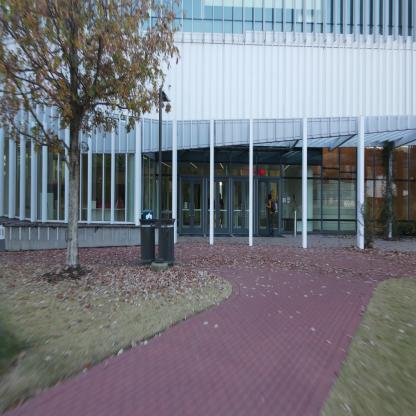Hunt Library: (0, 0, 415, 308)
